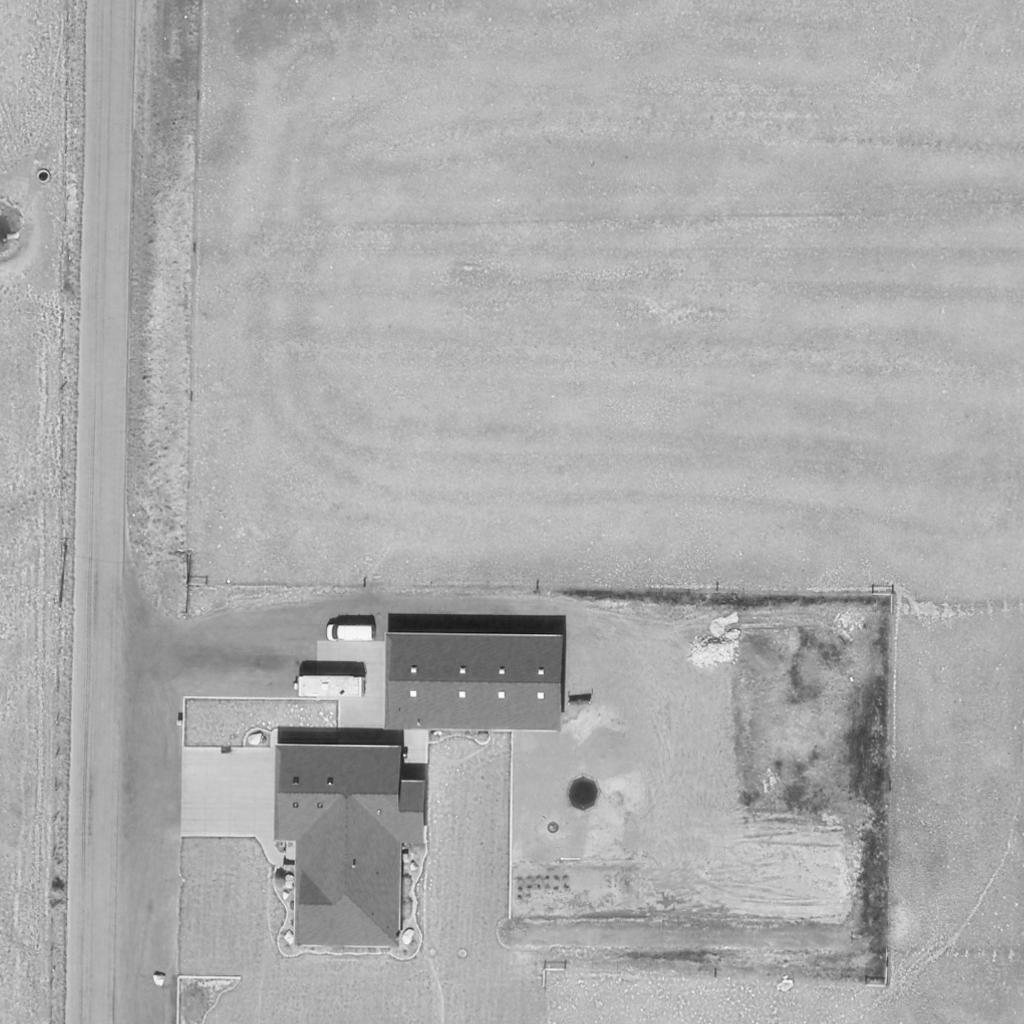vehicle: (293, 672, 365, 702), (323, 623, 375, 645)
